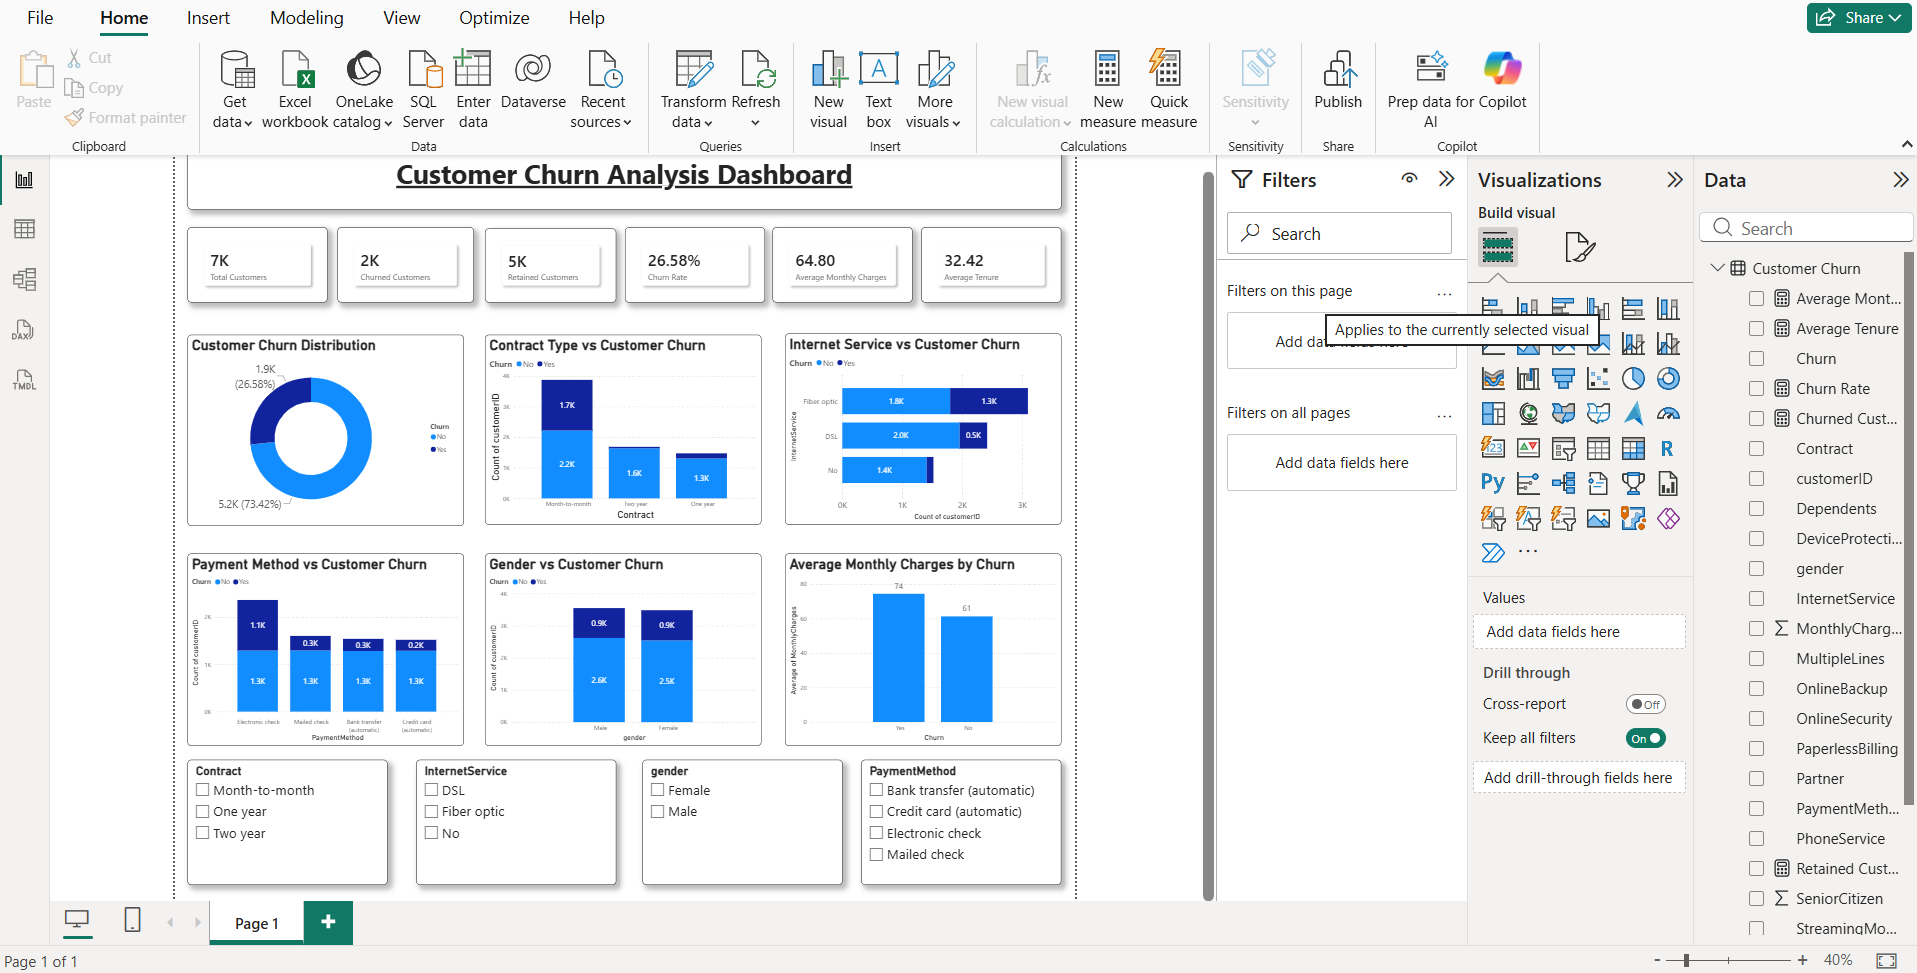

What the dashboard file says about the page in this screenshot:
{"tool":"powerbi","page":{"name":"Page 1","canvas":[1800,1500],"ordinal":0},"visuals":[{"type":"cardVisual","fields":{"Data":["Customer Churn.Total Customers"]},"box":[25.5,152.9,280.2,150.3],"z":0},{"type":"cardVisual","fields":{"Data":["Customer Churn.Churned Customers"]},"box":[326.1,152.9,272.6,150.3],"z":1000},{"type":"cardVisual","fields":{"Data":["Customer Churn.Retained Customers"]},"box":[619.1,155.4,262.4,147.8],"z":2000},{"type":"cardVisual","fields":{"Data":["Customer Churn.Average Monthly Charges"]},"box":[1194.8,152.9,280.2,150.3],"z":3000},{"type":"cardVisual","fields":{"Data":["Customer Churn.Average Tenure"]},"box":[1492.9,152.9,280.2,150.3],"z":4000},{"type":"cardVisual","fields":{"Data":["Customer Churn.Churn Rate"]},"box":[899.3,152.9,280.2,150.3],"z":5000},{"type":"textbox","box":[25.5,0,1747.6,117.2],"z":6000},{"type":"donutChart","title":"Customer Churn Distribution","fields":{"Category":["Customer Churn.Churn"],"Y":["CountNonNull(Customer Churn.customerID)"]},"box":[25,367.5,552.5,382.5],"z":6001},{"type":"columnChart","title":"Contract Type vs Customer Churn","fields":{"Category":["Customer Churn.Contract"],"Y":["CountNonNull(Customer Churn.customerID)"],"Series":["Customer Churn.Churn"]},"box":[620,367.5,552.5,380],"z":6002},{"type":"barChart","title":"Internet Service vs Customer Churn","fields":{"Category":["Customer Churn.InternetService"],"Y":["CountNonNull(Customer Churn.customerID)"],"Series":["Customer Churn.Churn"]},"box":[1220,365,552.5,382.5],"z":6003},{"type":"columnChart","title":"Payment Method vs Customer Churn","fields":{"Category":["Customer Churn.PaymentMethod"],"Y":["CountNonNull(Customer Churn.customerID)"],"Series":["Customer Churn.Churn"]},"box":[25,805,552.5,385],"z":6004},{"type":"columnChart","title":"Gender vs Customer Churn","fields":{"Category":["Customer Churn.gender"],"Y":["CountNonNull(Customer Churn.customerID)"],"Series":["Customer Churn.Churn"]},"box":[620,805,552.5,385],"z":6005},{"type":"clusteredColumnChart","title":"Average Monthly Charges by Churn","fields":{"Category":["Customer Churn.Churn"],"Y":["Avg(Customer Churn.MonthlyCharges)"]},"box":[1220,805,552.5,385],"z":6006},{"type":"slicer","fields":{"Values":["Customer Churn.Contract"]},"box":[25,1217.5,400,250],"z":6007},{"type":"slicer","fields":{"Values":["Customer Churn.InternetService"]},"box":[482.5,1217.5,400,250],"z":6008},{"type":"slicer","fields":{"Values":["Customer Churn.gender"]},"box":[935,1217.5,400,250],"z":6009},{"type":"slicer","fields":{"Values":["Customer Churn.PaymentMethod"]},"box":[1372.5,1217.5,400,250],"z":6010}]}

Visuals, with their boxes on the page's 1800x1500 design canvas (x1, y1, x2, y2). These are canvas units, not pixel positions in the 1917x973 screenshot, which may show the page scaled, cropped or inside an application window:
cardVisual - Customer Churn.Total Customers: <bbox>26, 153, 306, 303</bbox>
cardVisual - Customer Churn.Churned Customers: <bbox>326, 153, 599, 303</bbox>
cardVisual - Customer Churn.Retained Customers: <bbox>619, 155, 882, 303</bbox>
cardVisual - Customer Churn.Average Monthly Charges: <bbox>1195, 153, 1475, 303</bbox>
cardVisual - Customer Churn.Average Tenure: <bbox>1493, 153, 1773, 303</bbox>
cardVisual - Customer Churn.Churn Rate: <bbox>899, 153, 1180, 303</bbox>
textbox: <bbox>26, 0, 1773, 117</bbox>
"Customer Churn Distribution" donutChart: <bbox>25, 368, 578, 750</bbox>
"Contract Type vs Customer Churn" columnChart: <bbox>620, 368, 1172, 748</bbox>
"Internet Service vs Customer Churn" barChart: <bbox>1220, 365, 1772, 748</bbox>
"Payment Method vs Customer Churn" columnChart: <bbox>25, 805, 578, 1190</bbox>
"Gender vs Customer Churn" columnChart: <bbox>620, 805, 1172, 1190</bbox>
"Average Monthly Charges by Churn" clusteredColumnChart: <bbox>1220, 805, 1772, 1190</bbox>
slicer - Customer Churn.Contract: <bbox>25, 1218, 425, 1468</bbox>
slicer - Customer Churn.InternetService: <bbox>482, 1218, 882, 1468</bbox>
slicer - Customer Churn.gender: <bbox>935, 1218, 1335, 1468</bbox>
slicer - Customer Churn.PaymentMethod: <bbox>1372, 1218, 1772, 1468</bbox>
